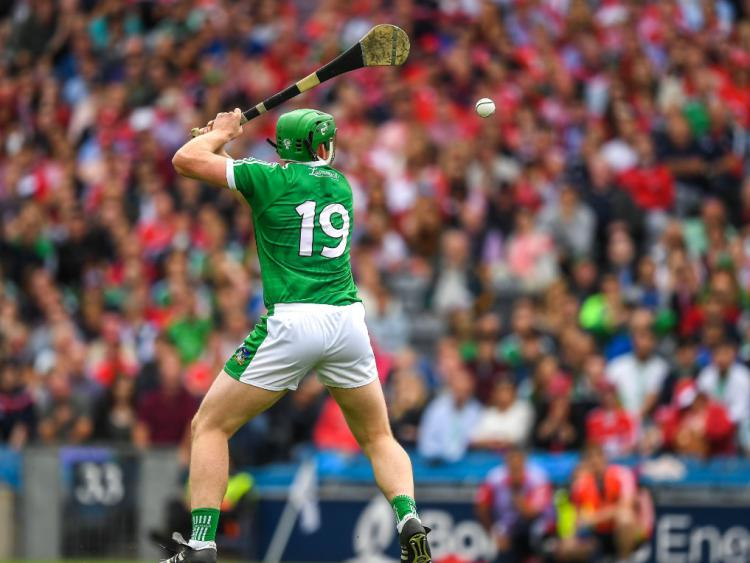hurley: (187, 23, 430, 134)
